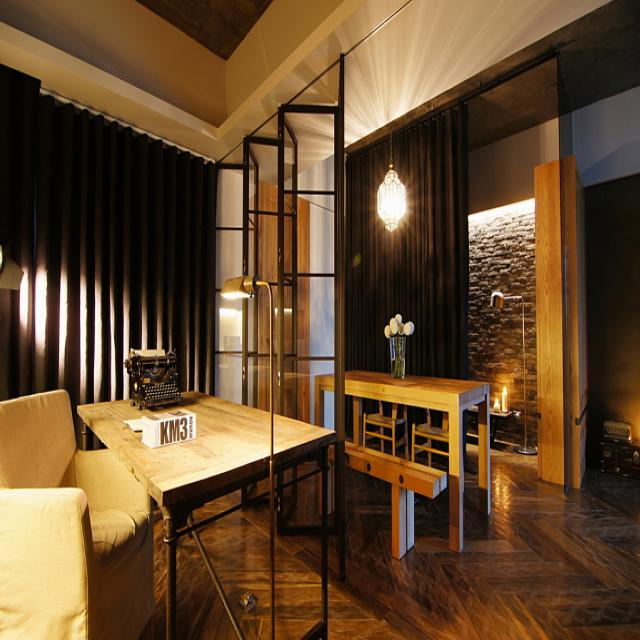chair: (0, 386, 154, 634), (363, 367, 407, 459)
desk: (76, 389, 338, 639)
